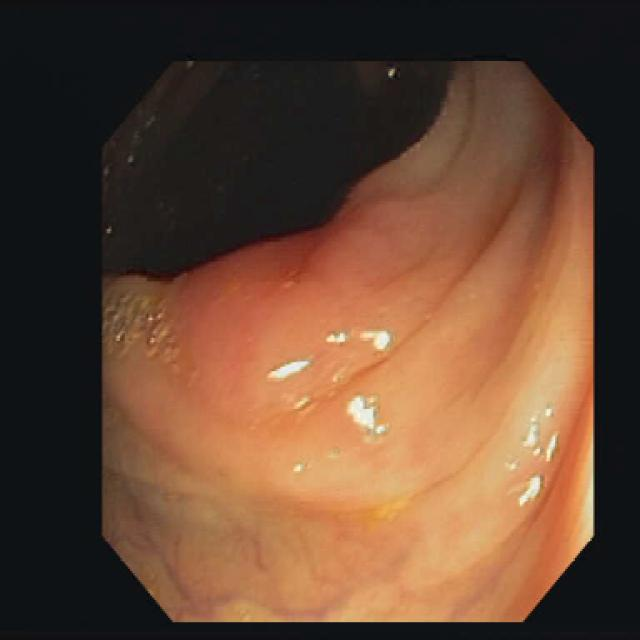tumor: (178, 233, 457, 393)
